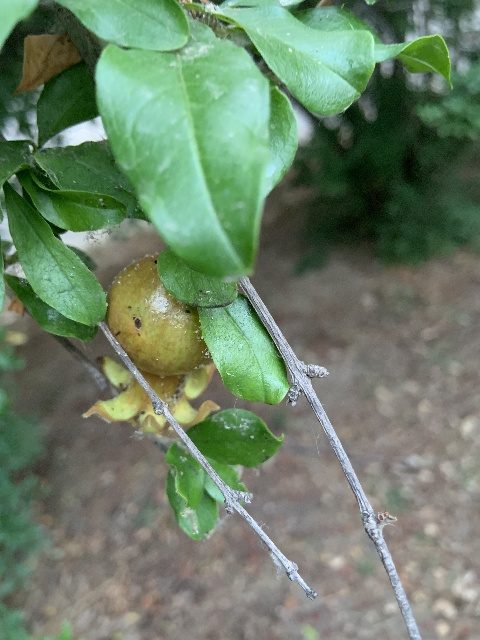early-fruit: (79, 256, 222, 442)
